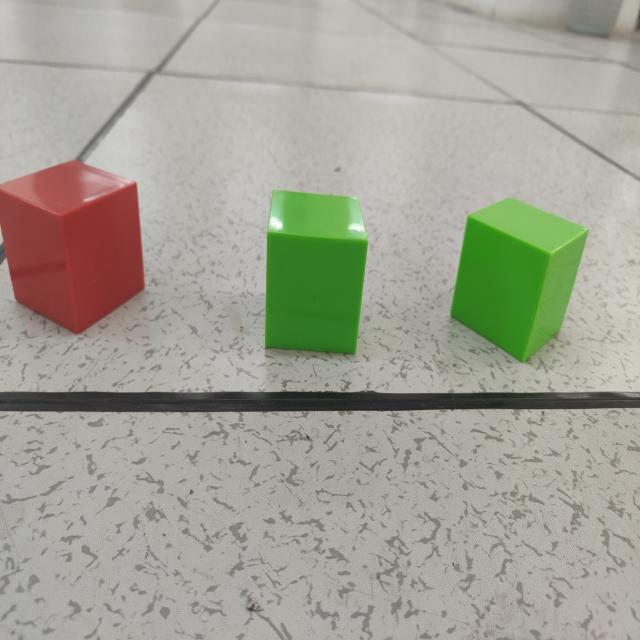green: (450, 199, 589, 364), (264, 191, 369, 359)
red: (0, 162, 147, 336)
